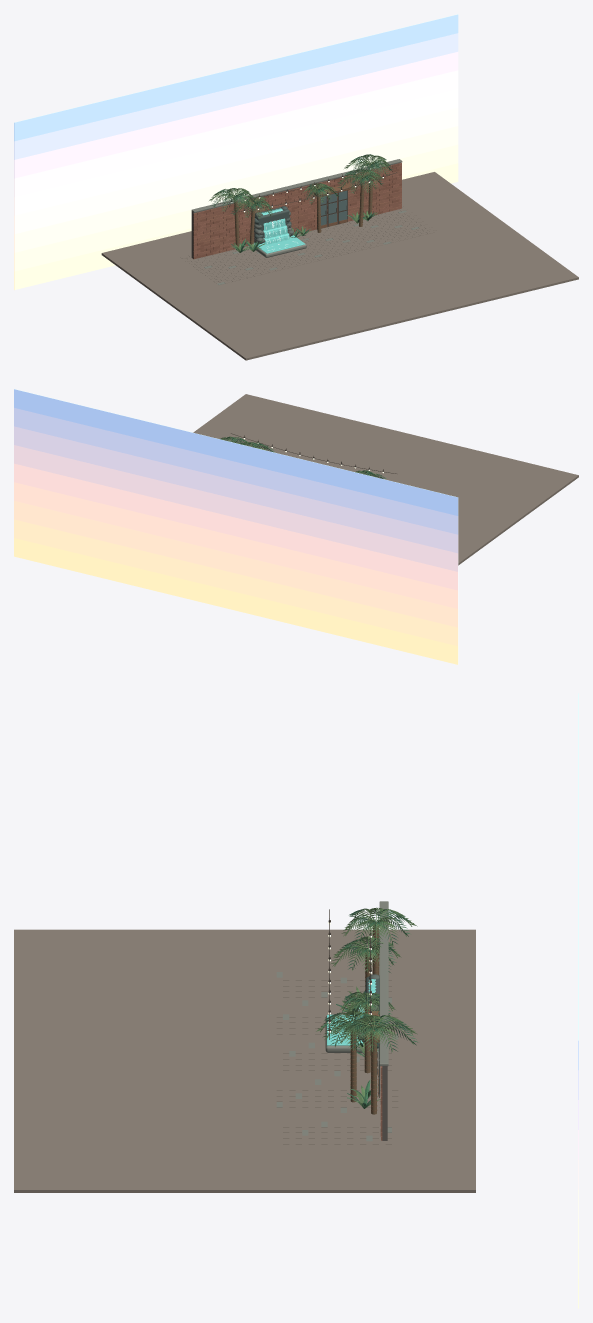
The model's file is venue-end-up.fbx.
The picture shows the model from 3 angles, top to bottom: view 1: azimuth 30°, elevation 25°; view 2: azimuth 150°, elevation 25°; view 3: azimuth 270°, elevation 25°; orthographic projection. The views are drawn at different scales.
Parts seen in each view (by area): view 1: VenueEndUp; view 2: VenueEndUp; view 3: VenueEndUp.
Boxes of the visible parts, left/top/right/bottom form: VenueEndUp: left=14, top=14, right=578, bottom=360; VenueEndUp: left=14, top=389, right=578, bottom=664; VenueEndUp: left=14, top=693, right=578, bottom=1308.
Bounding box in the file's own units: 32 × 22.01 × 11.53.
